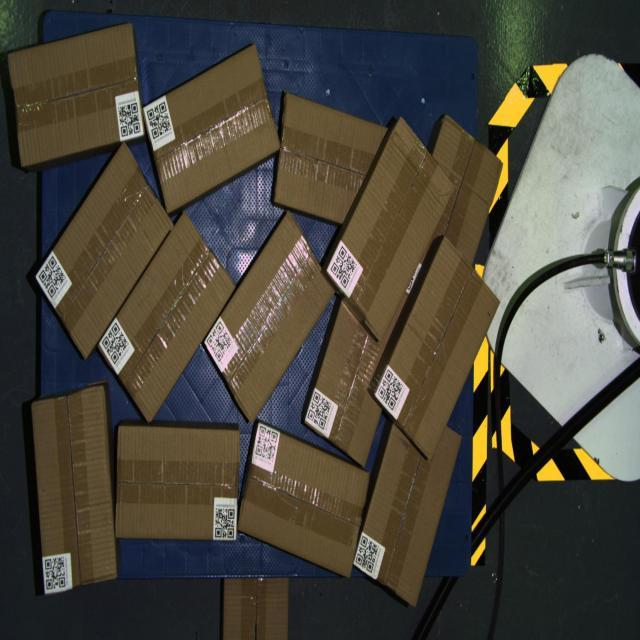box: (34, 141, 174, 360), (98, 210, 236, 425), (325, 116, 455, 343), (374, 235, 501, 460), (204, 210, 336, 425), (142, 44, 281, 214), (238, 421, 370, 578), (7, 22, 145, 167), (31, 386, 117, 596), (115, 426, 240, 541)
